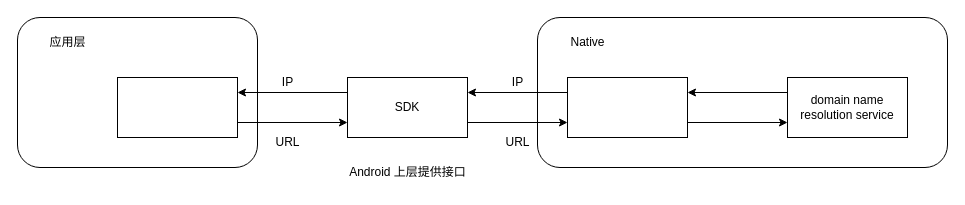
This 965x205 diagram has some shape labels left out. Here are the shapes that lost their labels. From the top down, the box of each, then its label:
(116, 76, 238, 138): 获取URL
(566, 76, 688, 138): domain name resolution impl
